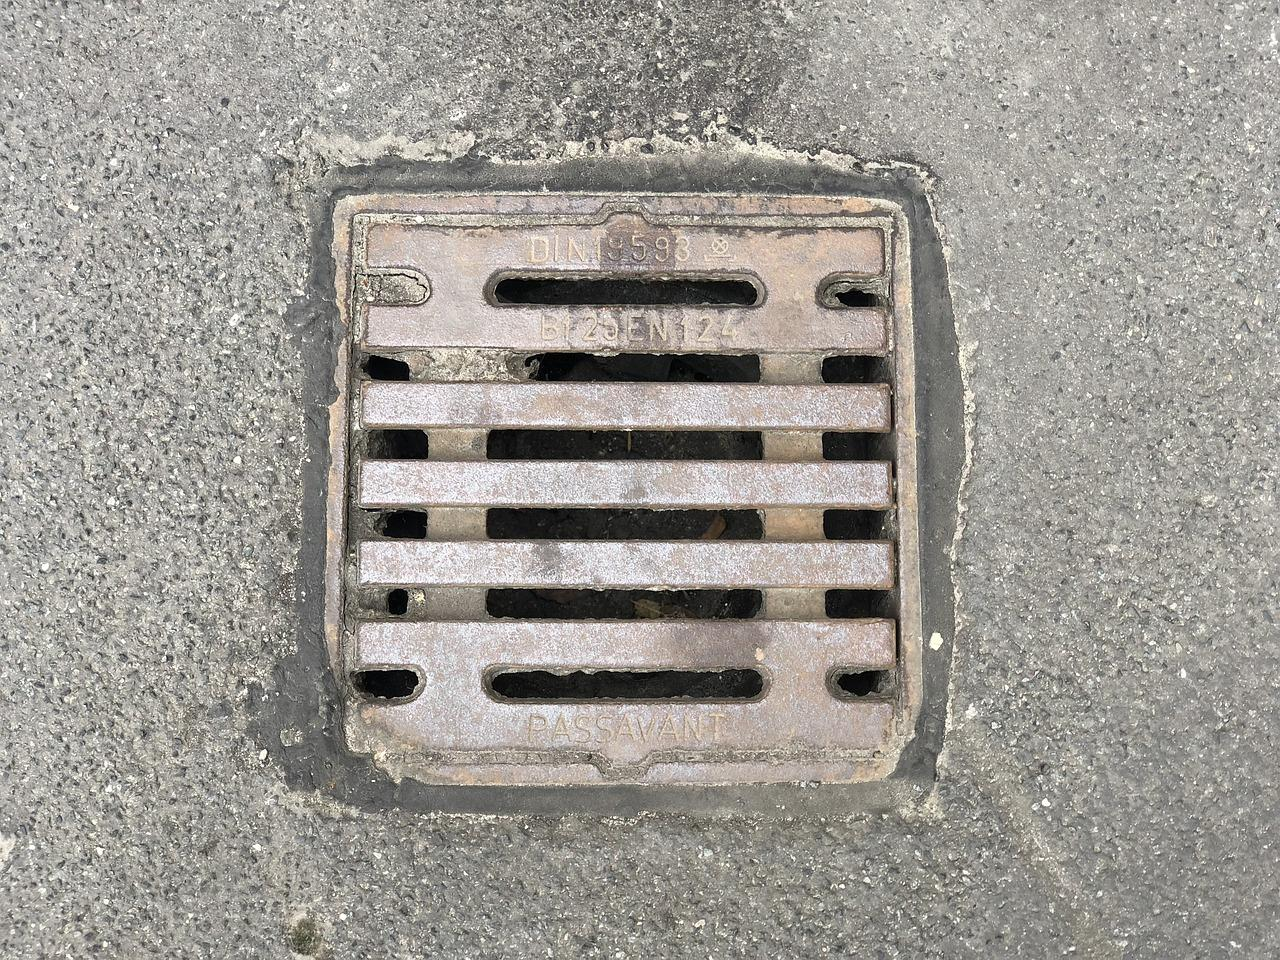wellcover: (216, 134, 1007, 837)
